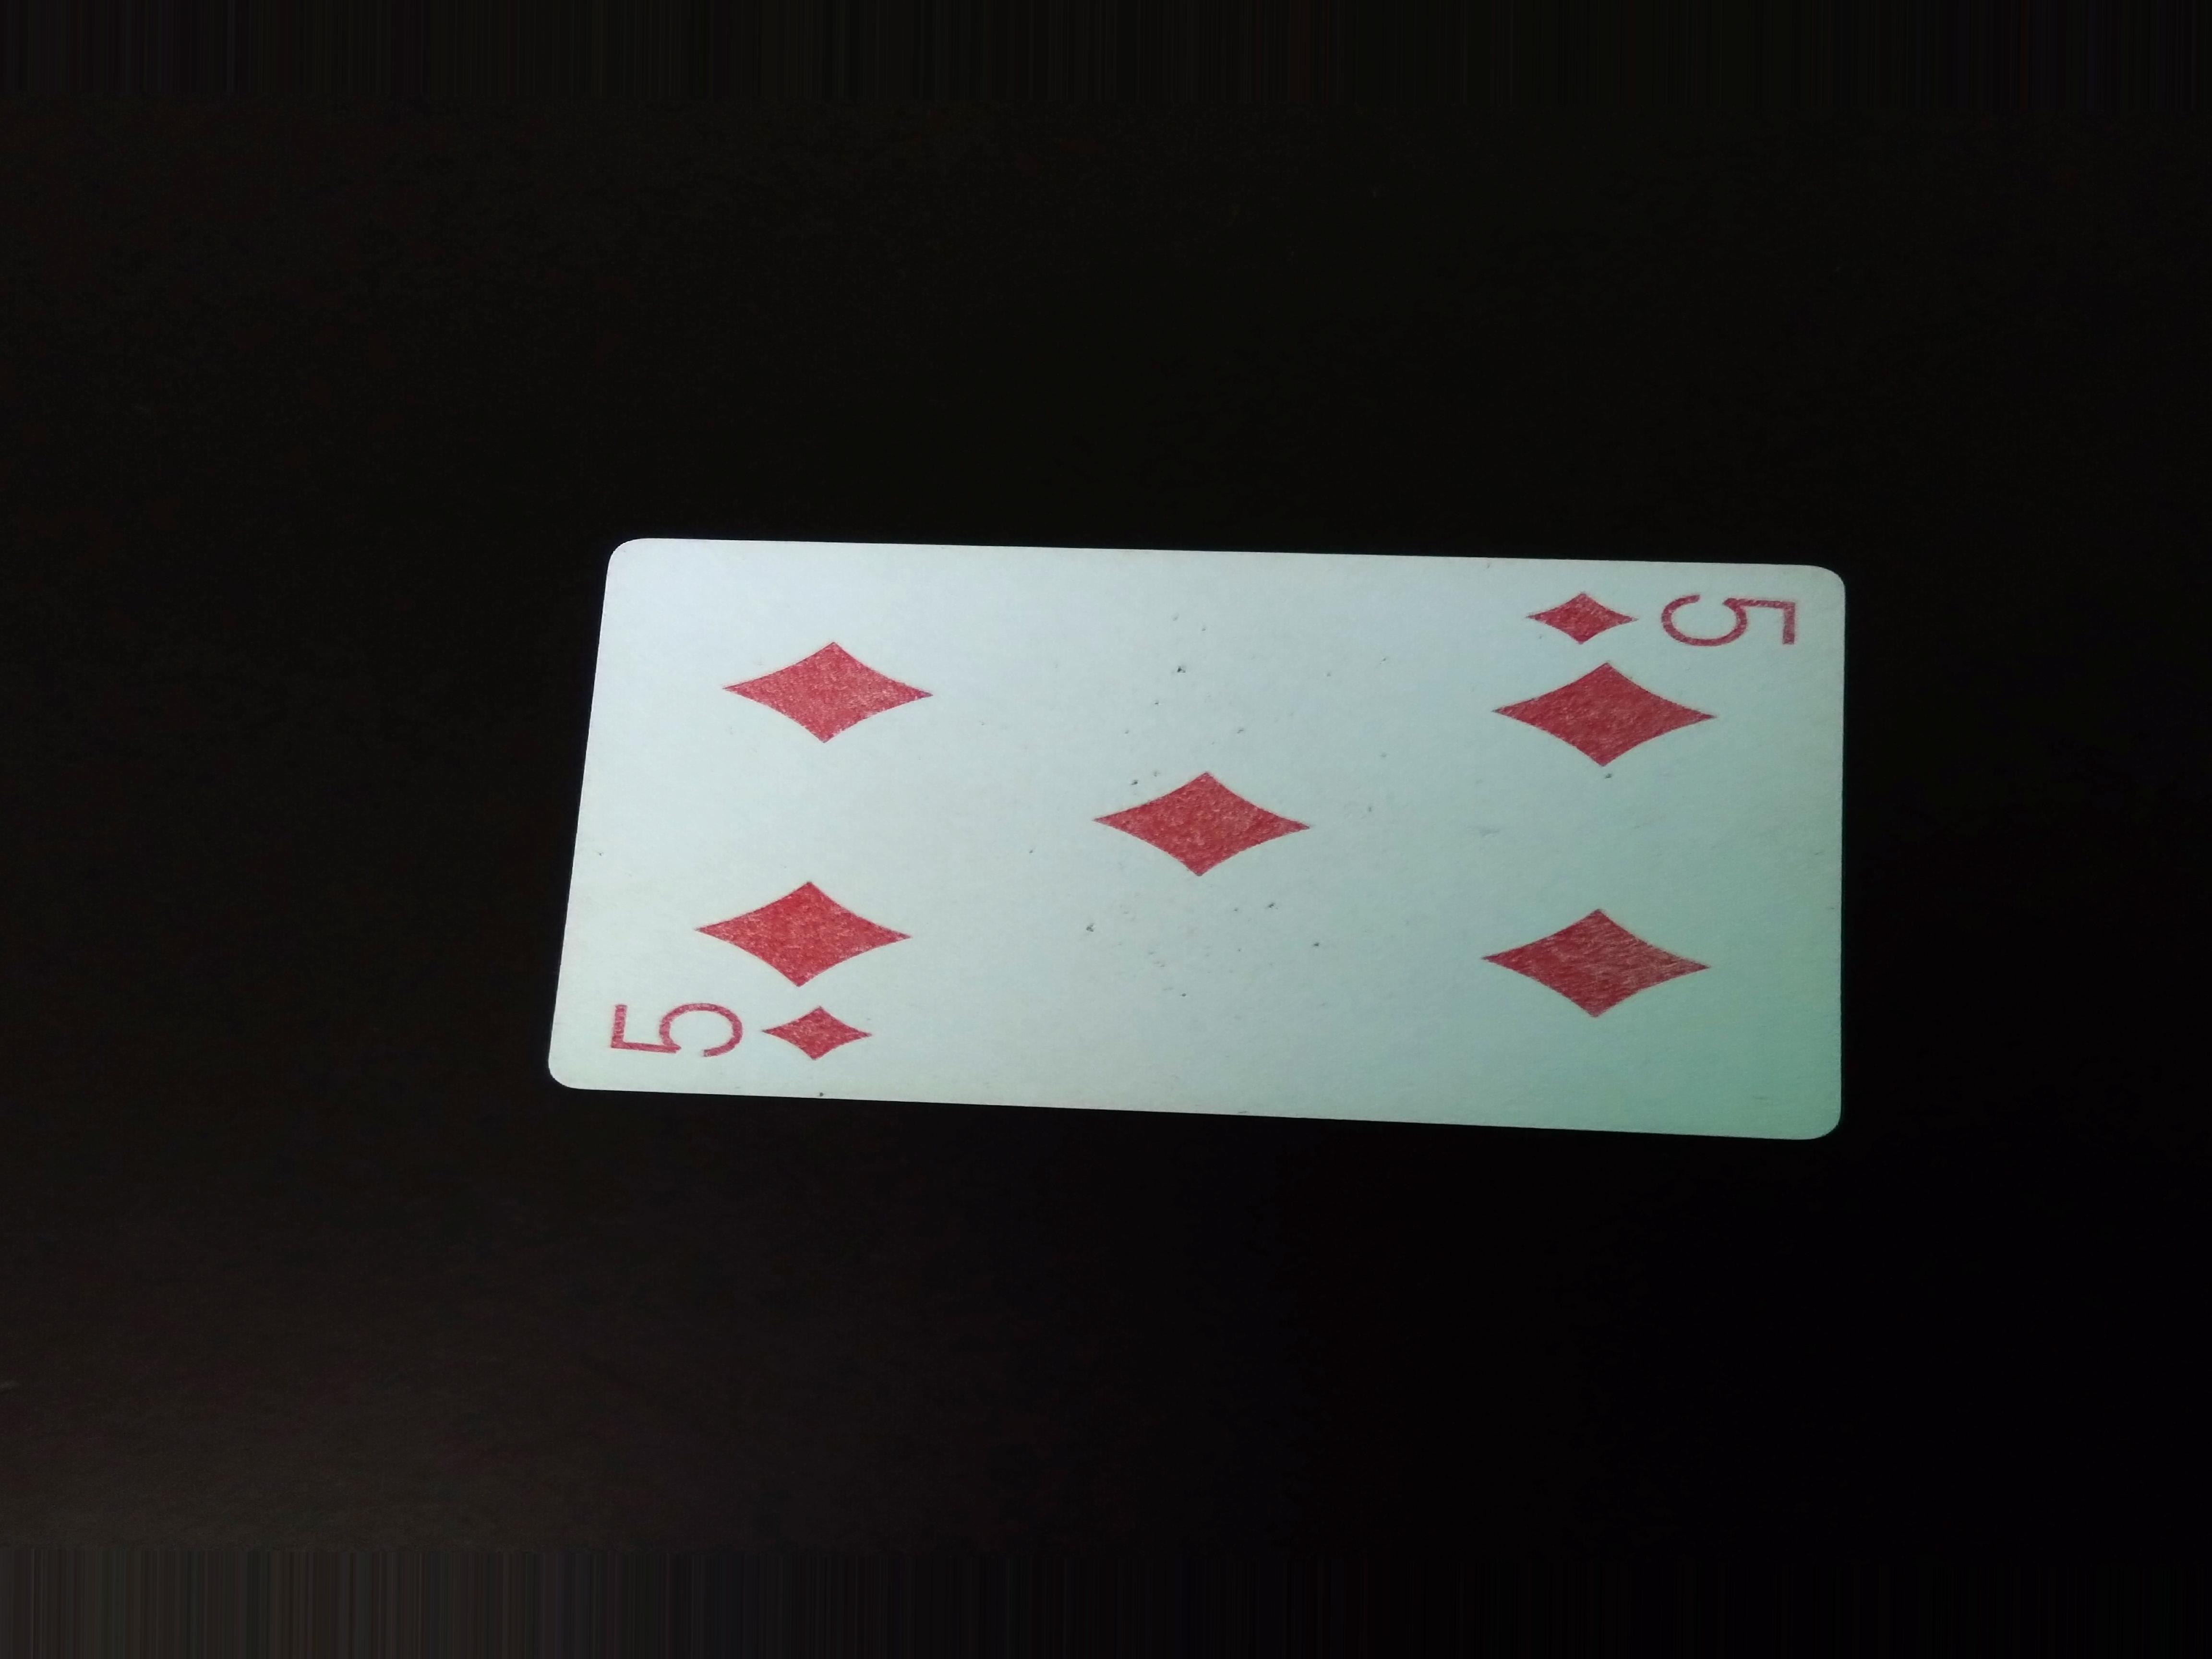5D: (566, 985, 890, 1093)
